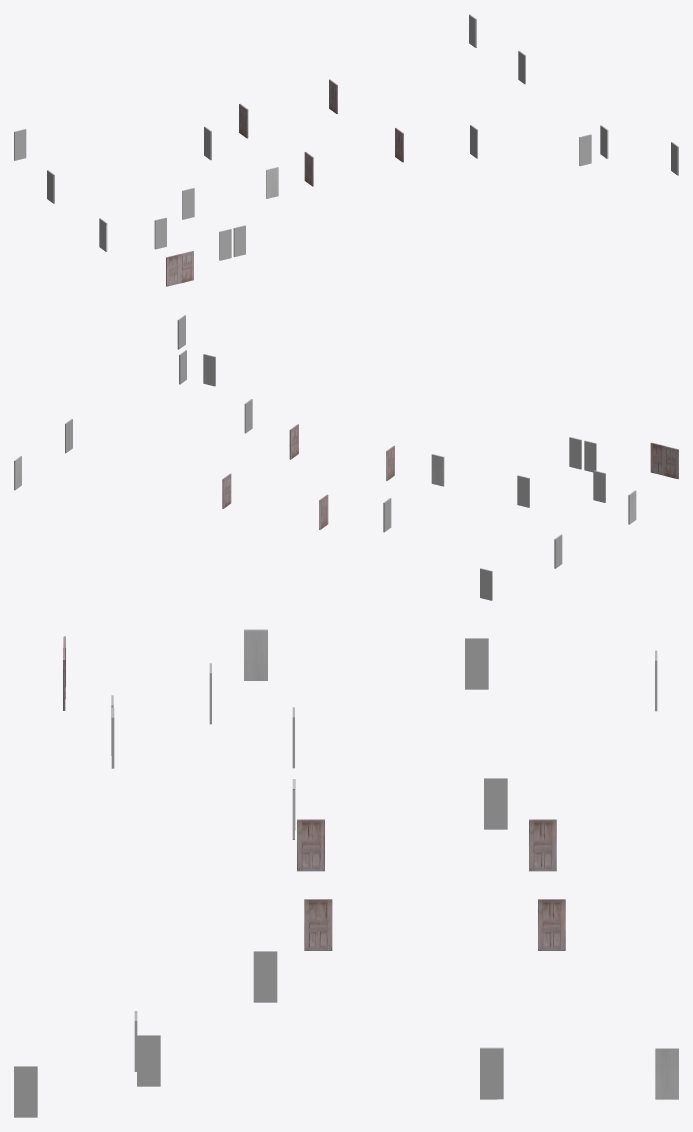
File: Asset Main Building_V2.fbx_pintu.fbx
3 views of the same model, one above another, from view 1: azimuth 30°, elevation 25°; view 2: azimuth 150°, elevation 25°; view 3: azimuth 270°, elevation 25° (orthographic). The views are drawn at different scales.
Visible parts, largest first — view 1: Door.013, Door.009; view 2: Door.013, Door.009; view 3: Door.001, Door.012, Door.005, Door.004, Door.010, Door.002, pintu kamar mandi 1, pintu kamar mandi 3, Door.015, Door.003, Door.014, pintu kamar mandi 3.001.
Boxes of the visible parts, <box> form: Door.013: <box>166,254,180,286</box>; Door.009: <box>180,251,193,283</box>; Door.013: <box>664,446,678,479</box>; Door.009: <box>650,442,664,475</box>; Door.001: <box>304,899,332,950</box>; Door.012: <box>297,819,324,871</box>; Door.005: <box>529,819,556,871</box>; Door.004: <box>538,899,565,950</box>; Door.010: <box>253,951,277,1002</box>; Door.002: <box>480,1047,503,1099</box>; pintu kamar mandi 1: <box>244,629,267,680</box>; pintu kamar mandi 3: <box>655,1048,678,1099</box>; Door.015: <box>465,638,488,689</box>; Door.003: <box>484,778,507,829</box>; Door.014: <box>137,1035,160,1086</box>; pintu kamar mandi 3.001: <box>14,1066,37,1117</box>.
Size of the model in its own units: 34045 by 1877 by 21837.
